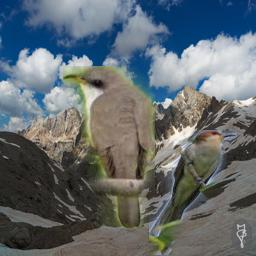Cuckoo: (63, 66, 155, 228), (149, 130, 237, 255)
